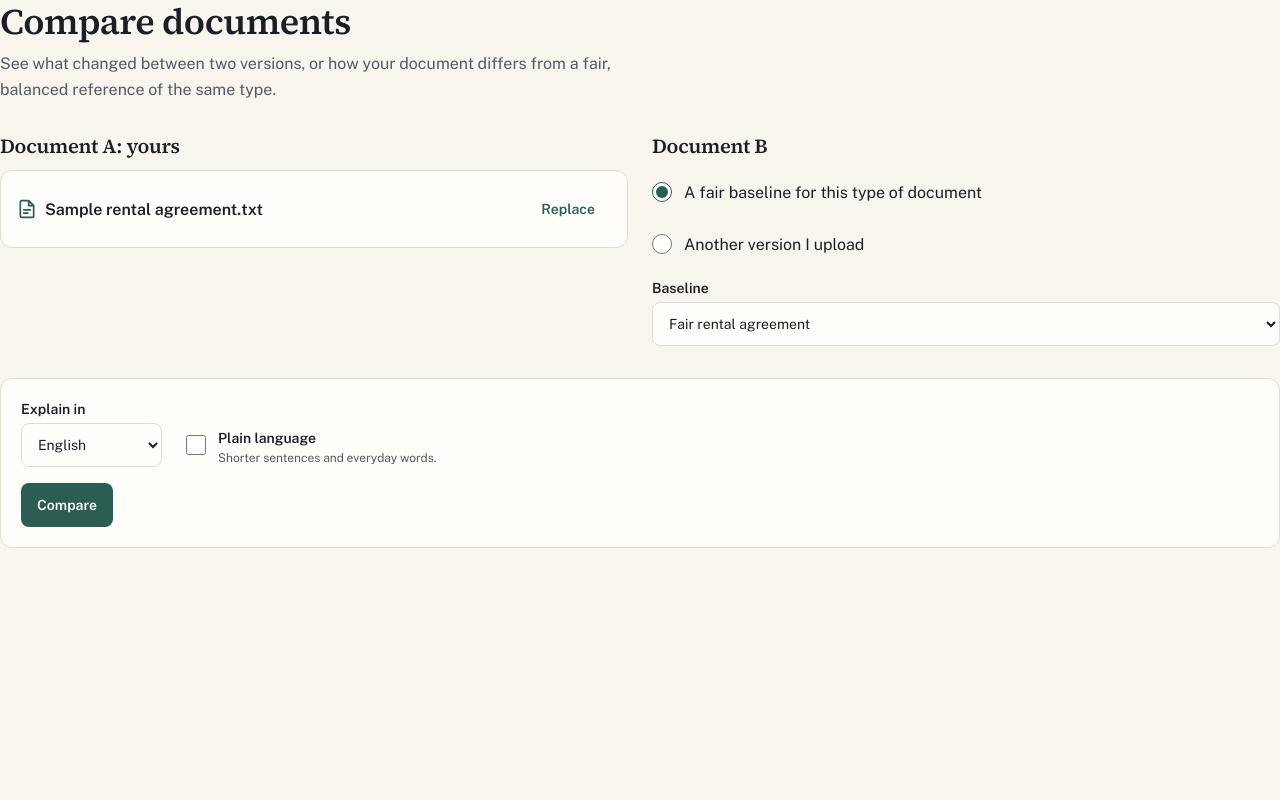
CompareView › compares the session document against the fair baseline for its type
The width and height of the screenshot is (1280, 800).
Check: the dropdown labelled "Baseline" shows "Fair rental agreement", box x1=652 y1=302 x2=1279 y2=346
Click the button "Compare" at (67, 505), box x1=21 y1=483 x2=113 y2=527
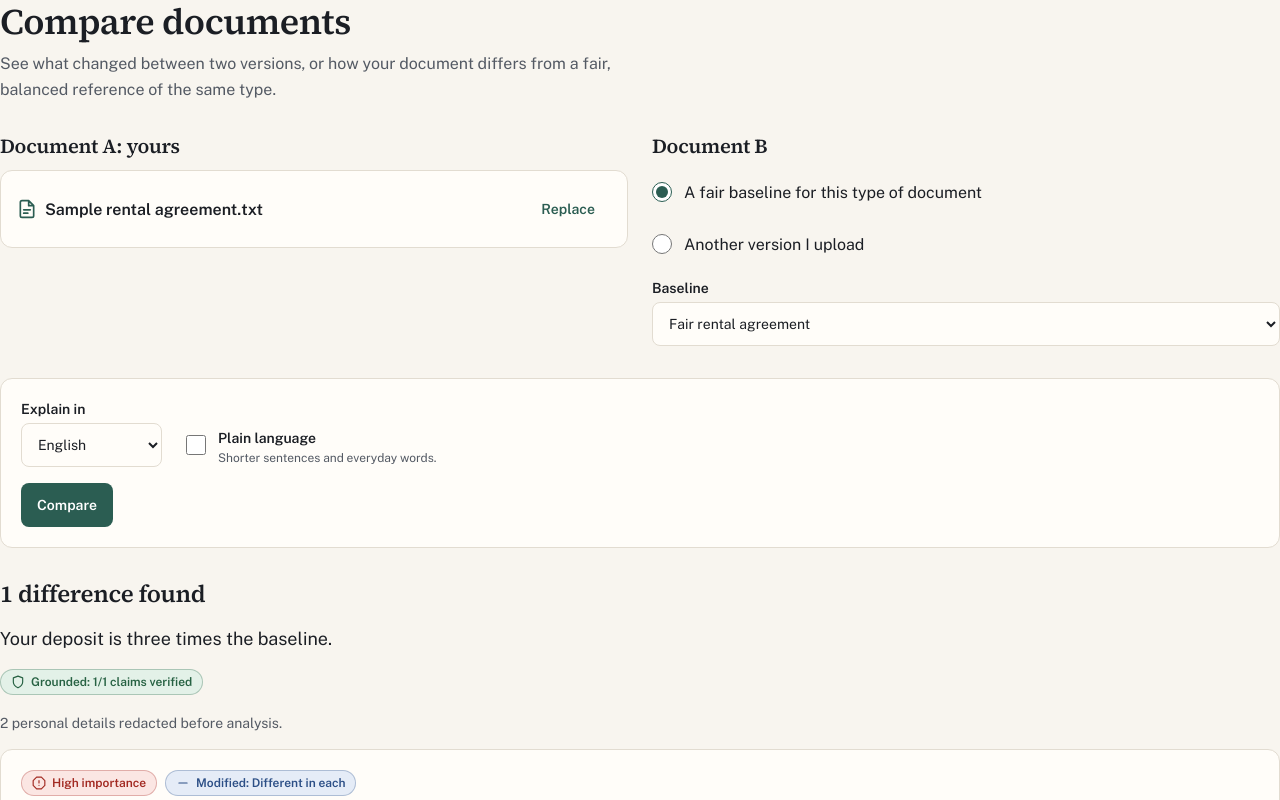
Check: the text "Your deposit is three times the baseline." is shown, box x1=0 y1=628 x2=332 y2=649
Check: the text "High importance" is shown, box x1=21 y1=770 x2=157 y2=796
